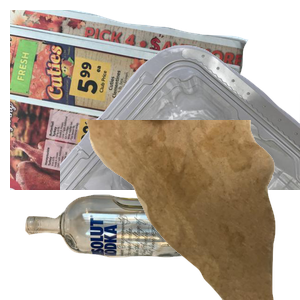glass: (22, 192, 234, 300)
paper: (10, 10, 250, 190)
plastic: (60, 43, 300, 223)
trash: (84, 120, 300, 300)
